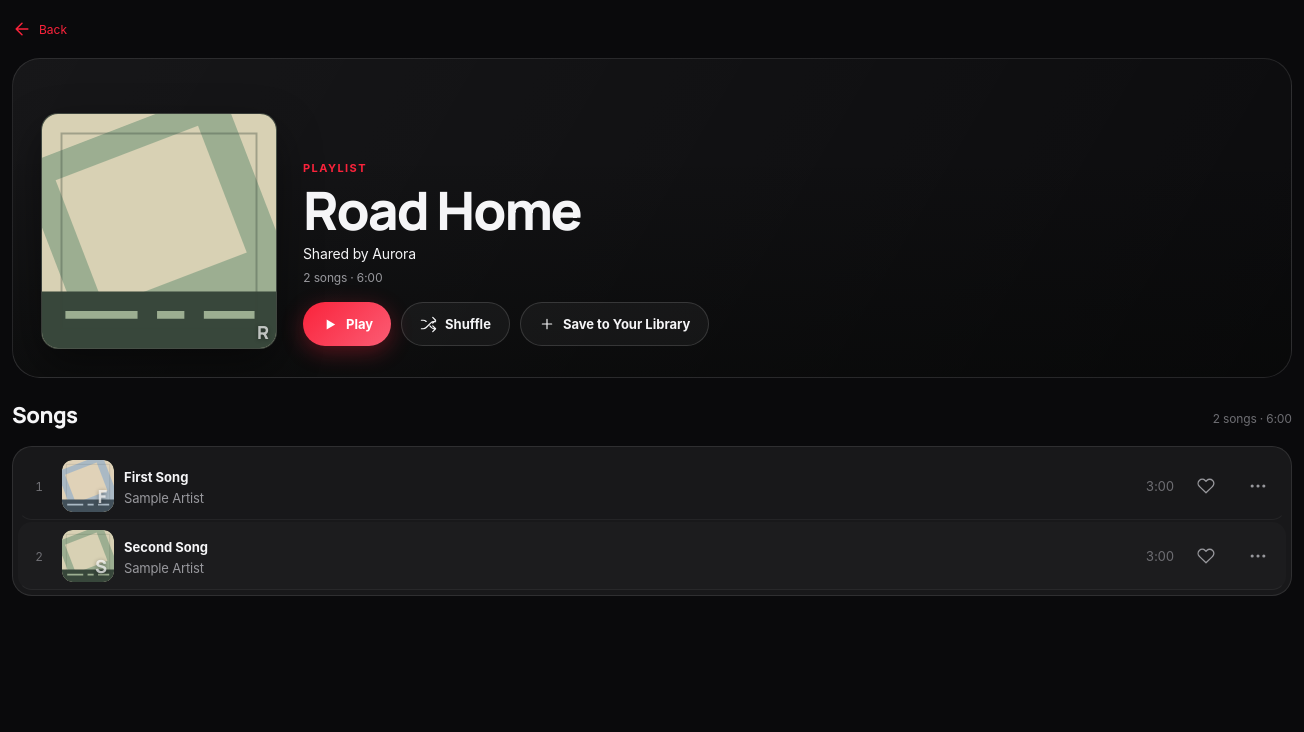
Scenario: collection pages › saves a remote playlist as a local playlist and links to the copy
What coordinates should you click on to do the following:
click the button "Save to Your Library"
I would click on:
 (615, 324)
Its box is left=520, top=302, right=709, bottom=346.
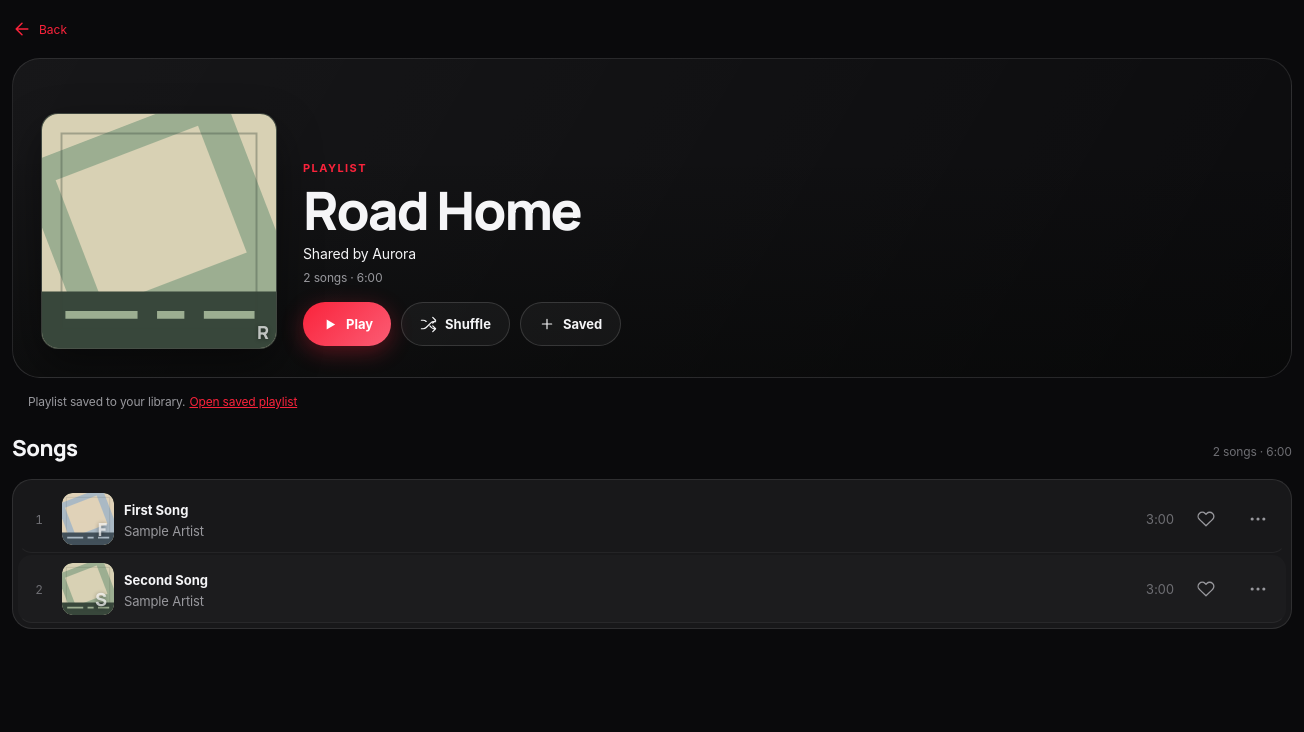
Result: the text "Playlist saved to your library." is shown at left=28, top=394, right=185, bottom=409
